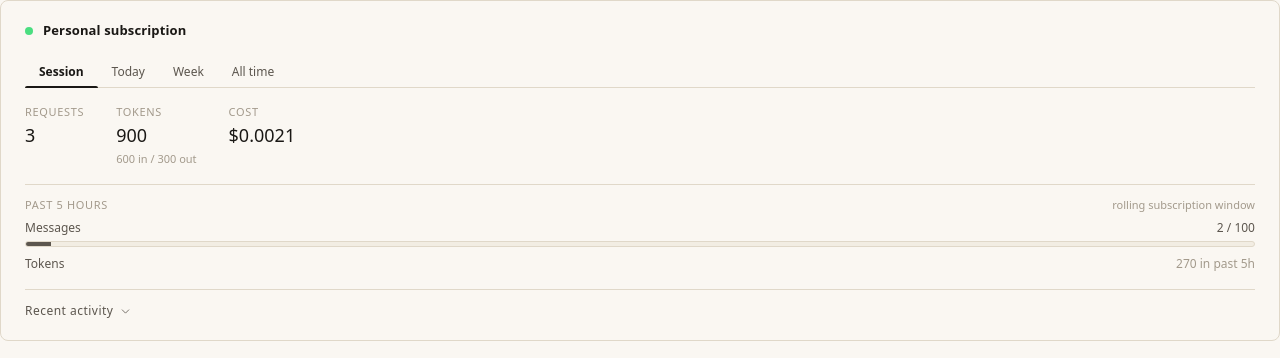
Scenario: PersonalUsageTile — with key configured › switches to Week tab and shows week stats
The image size is (1280, 358).
Click the tab "Week". click: (188, 72)
box: [159, 56, 218, 86]
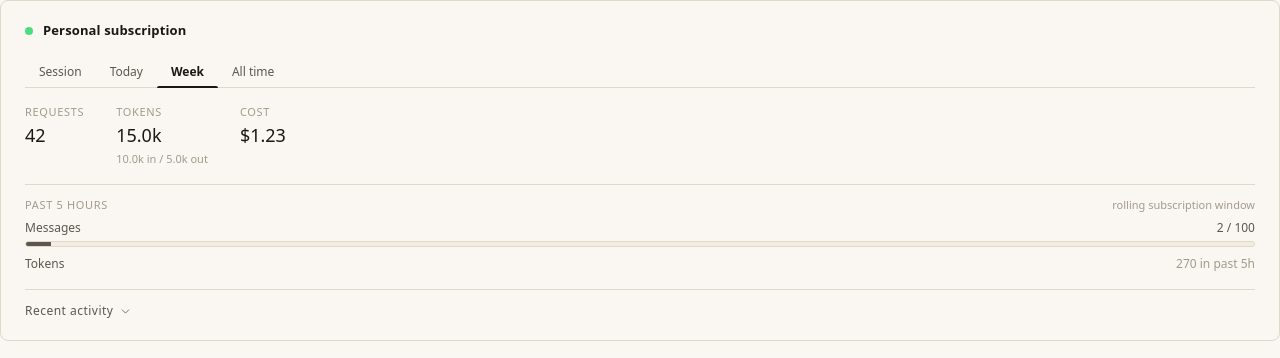
Expected: the text "$1.23" is shown, [240, 122, 286, 149]
Expected: the text "42" is shown, [25, 123, 46, 147]
